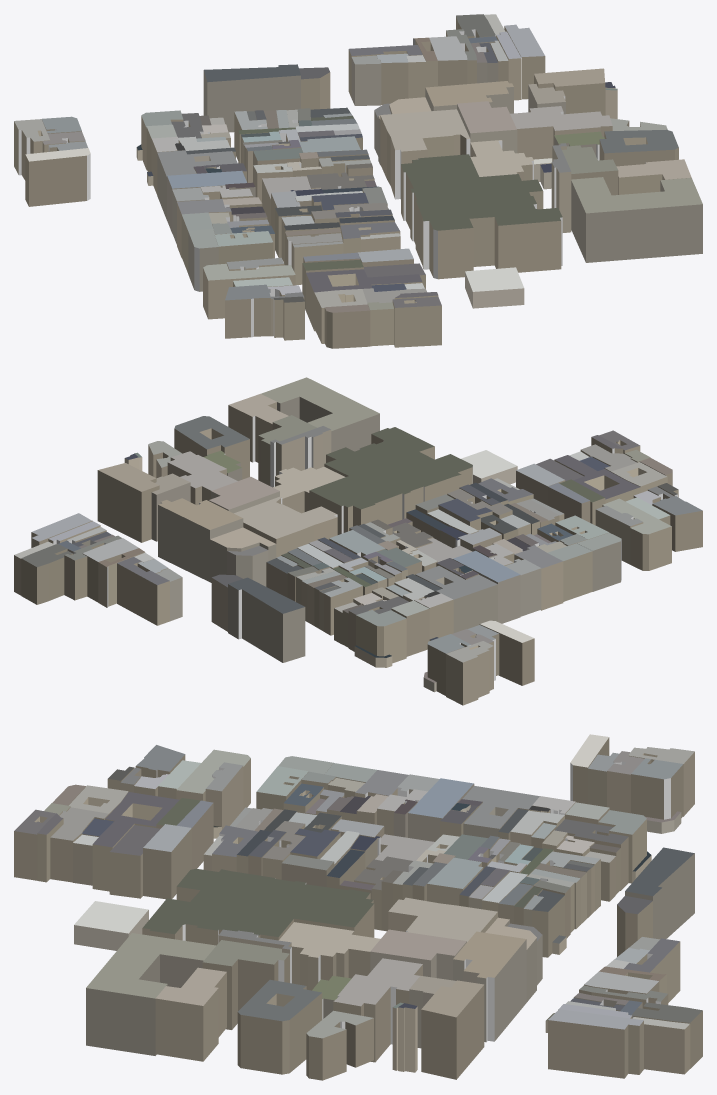
3 renders of one model, top to bottom at view 1: azimuth 30°, elevation 25°; view 2: azimuth 150°, elevation 25°; view 3: azimuth 270°, elevation 25°, orthographic. The views are drawn at different scales.
Visible parts, largest first — view 1: tuile; view 2: tuile; view 3: tuile.
Part boxes in pixels (x1,y1,x2,y2): tuile: (14,14,702,348); tuile: (14,377,702,705); tuile: (14,734,702,1080).
Size of the model in its own units: 274 by 32.36 by 269.
